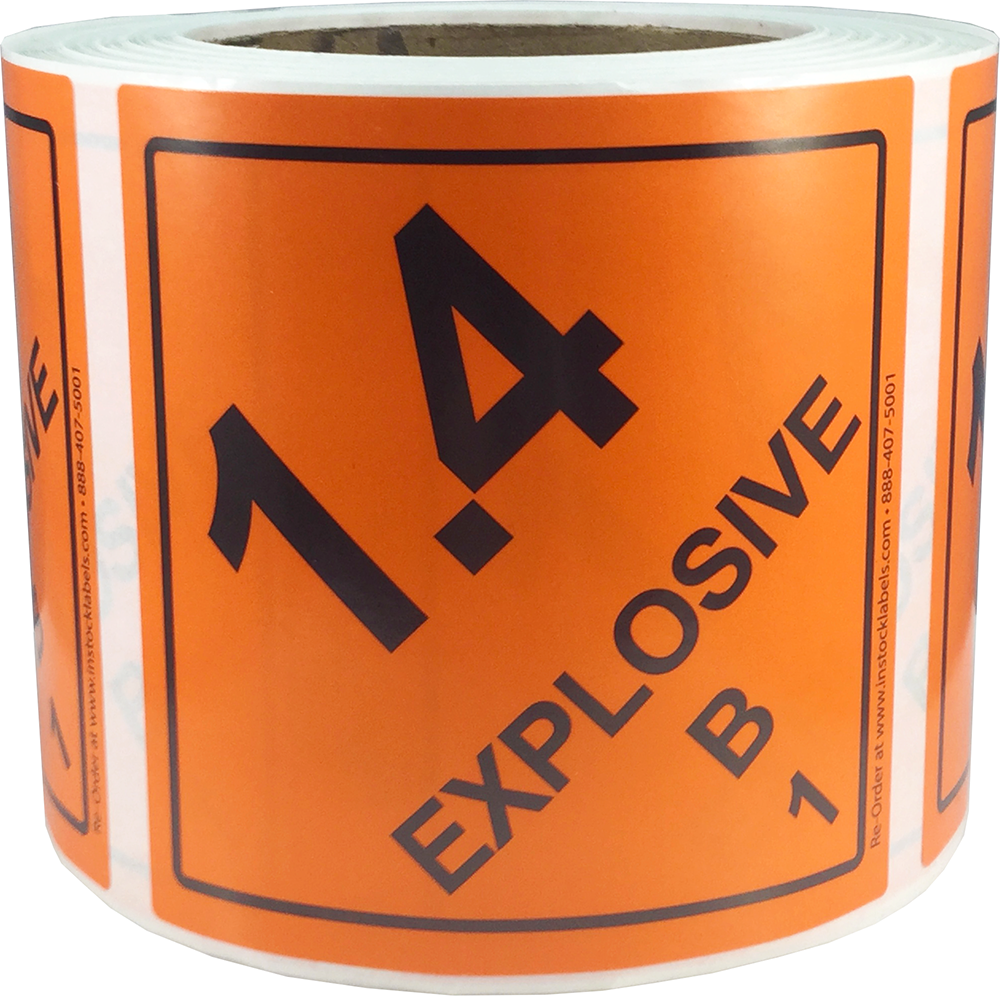Explosive: (139, 117, 884, 900)
